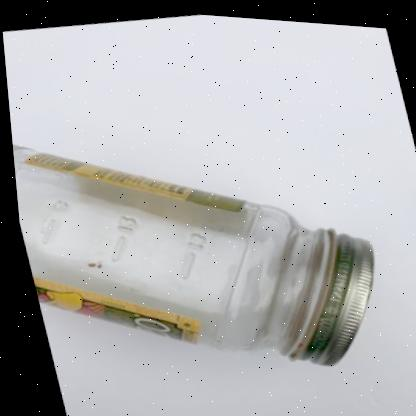Glass: (10, 143, 369, 360)
